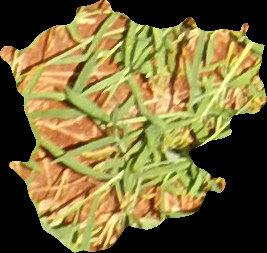grass: (1, 1, 265, 251)
